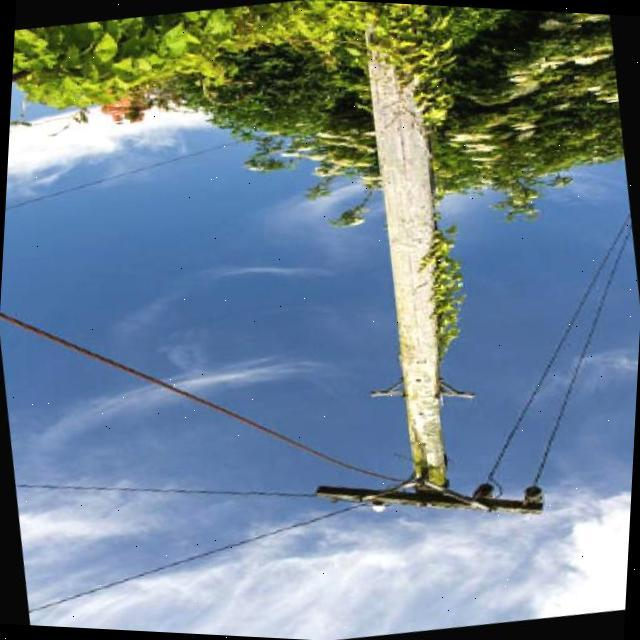critical vegetation: (397, 196, 492, 377), (391, 434, 462, 504)
